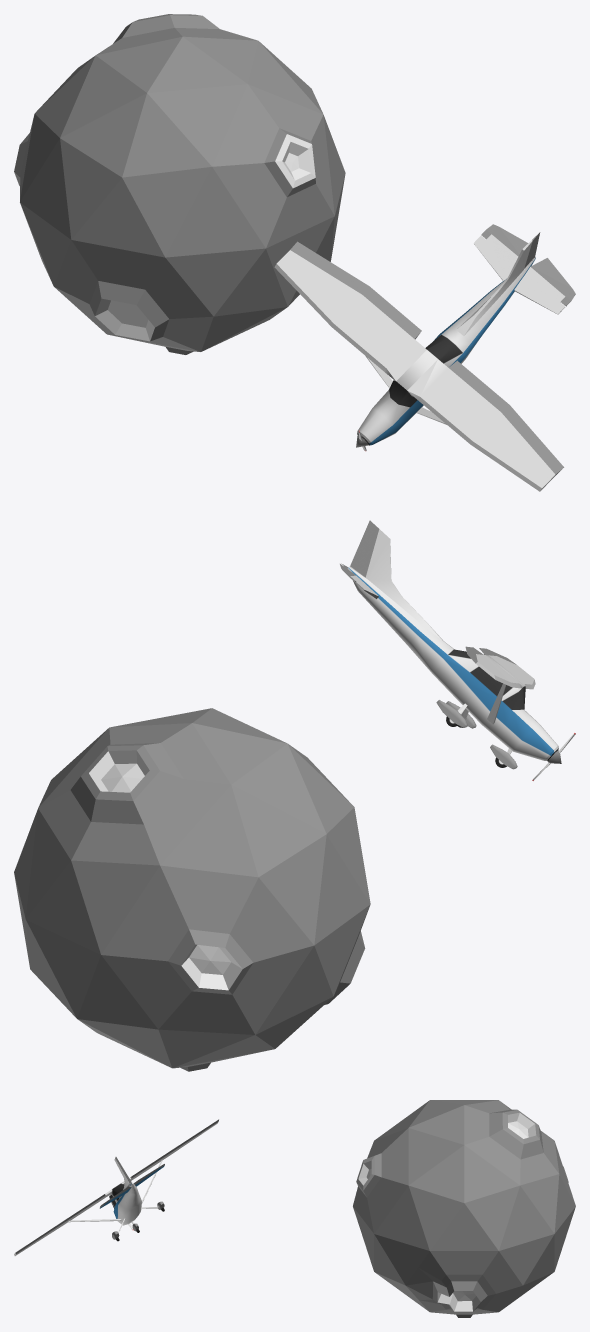
The picture shows the model from 3 angles, top to bottom: view 1: azimuth 30°, elevation 25°; view 2: azimuth 150°, elevation 25°; view 3: azimuth 270°, elevation 25°; orthographic projection. The views are drawn at different scales.
Visible parts, largest first — view 1: moon, Body.001, Stabilizer, Elevator, RightAileron, LeftAileron, RightFlap, LeftFlap; view 2: moon, Body.001, Rudder; view 3: moon, Body.001.
Boxes of the visible parts, bbox=[...] form: moon: bbox=[14, 14, 345, 354]; Body.001: bbox=[274, 240, 555, 491]; Stabilizer: bbox=[473, 234, 565, 314]; Elevator: bbox=[481, 224, 575, 306]; RightAileron: bbox=[290, 241, 369, 294]; LeftAileron: bbox=[501, 405, 563, 474]; RightFlap: bbox=[362, 286, 421, 339]; LeftFlap: bbox=[449, 360, 509, 411]; moon: bbox=[14, 708, 370, 1071]; Body.001: bbox=[347, 529, 558, 769]; Rudder: bbox=[350, 520, 379, 577]; moon: bbox=[353, 1100, 575, 1317]; Body.001: bbox=[14, 1122, 218, 1255].
Size of the model in its own units: 9.54 by 10.34 by 25.18.
3 materials, 1 textured.
